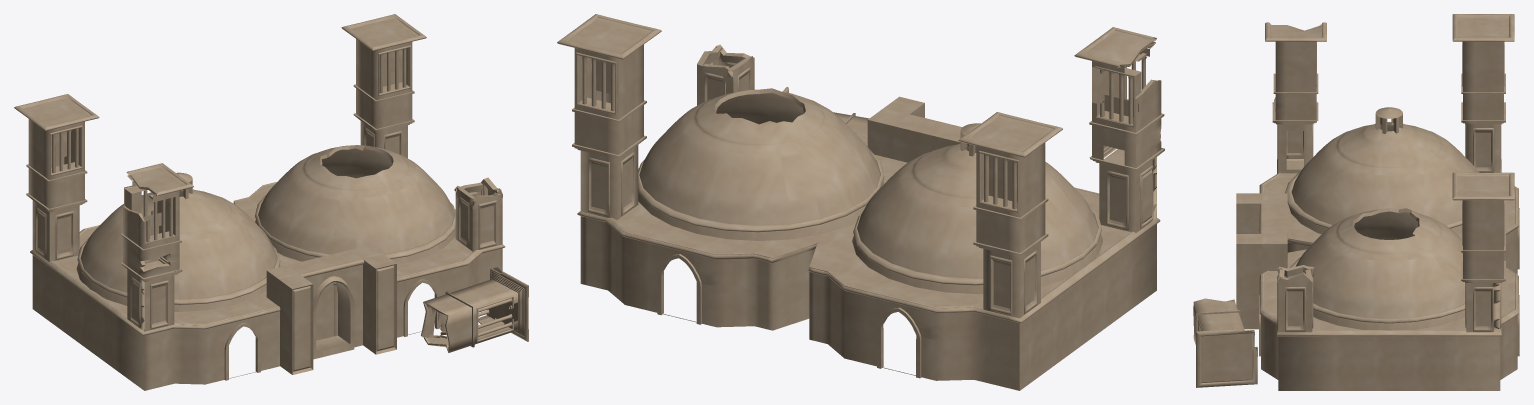
The model's file is AbAnbar_kharabe.fbx.
The picture shows the model from 3 angles, left to right: view 1: azimuth 30°, elevation 25°; view 2: azimuth 150°, elevation 25°; view 3: azimuth 270°, elevation 25°; orthographic projection. The views are drawn at different scales.
Parts seen in each view (by area): view 1: polySurface216; view 2: polySurface216; view 3: polySurface216.
Part boxes in pixels (x1,y1,x2,y2): polySurface216: (14, 14, 528, 390); polySurface216: (557, 14, 1164, 390); polySurface216: (1193, 14, 1519, 390).
Size of the model in its own units: 51.14 by 26.27 by 38.18.
